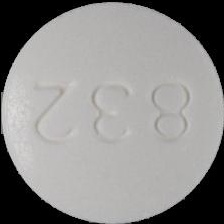49999-607: (0, 0, 224, 224)
